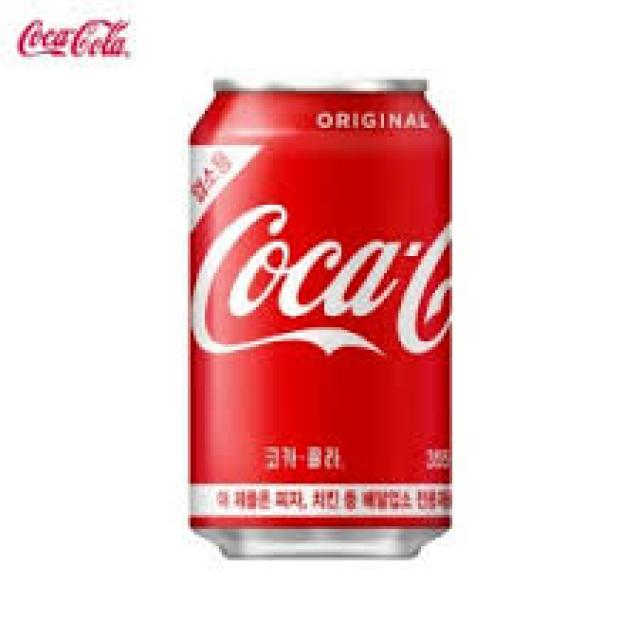Coca-Cola: (183, 77, 468, 572)
